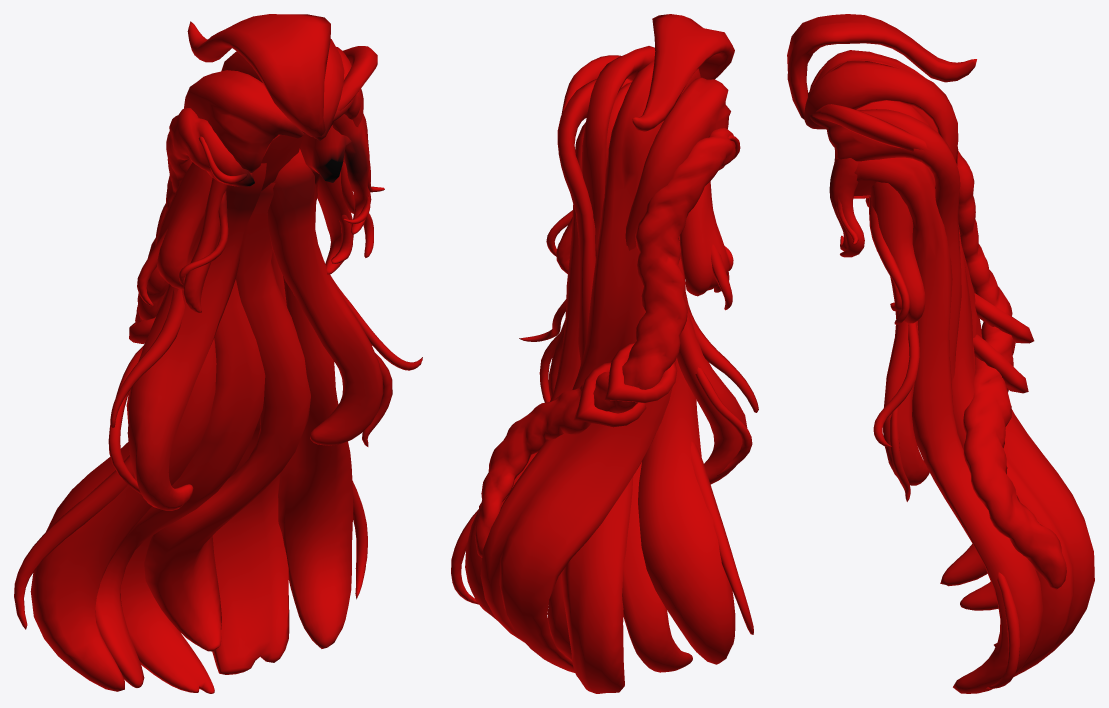
File: ZoeHairOutline.fbx
3 renders of one model, left to right at view 1: azimuth 30°, elevation 25°; view 2: azimuth 150°, elevation 25°; view 3: azimuth 270°, elevation 25°, orthographic. The views are drawn at different scales.
Visible parts, largest first — view 1: HAIR_OUTLINE; view 2: HAIR_OUTLINE; view 3: HAIR_OUTLINE.
Boxes of the visible parts, bbox=[...] form: HAIR_OUTLINE: bbox=[14, 14, 422, 693]; HAIR_OUTLINE: bbox=[451, 14, 758, 693]; HAIR_OUTLINE: bbox=[787, 14, 1094, 693].
Size of the model in its own units: 0.6599 by 1.3 by 0.5552.
